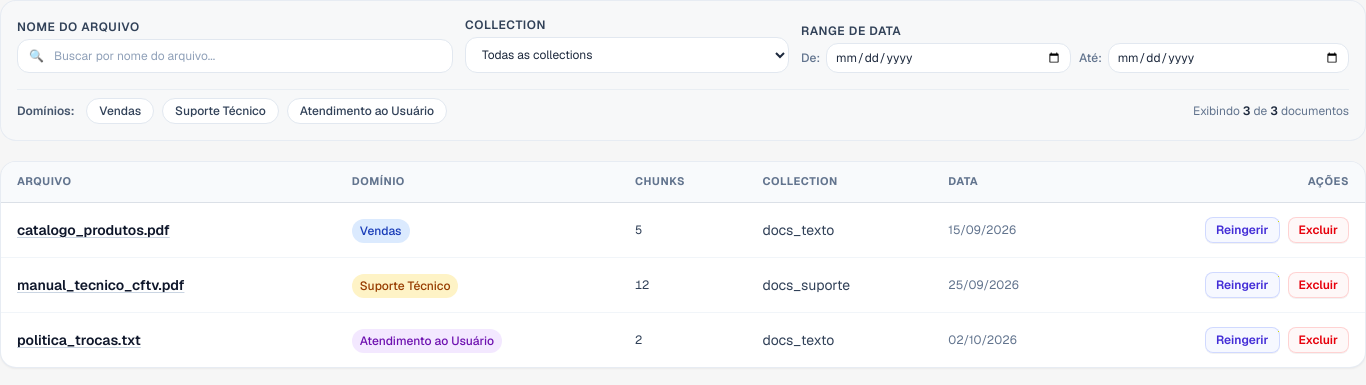
it: DocumentsTable › Filtros de documentos › filtra por nome do arquivo (case-insensitive)
Check: the text "catalogo_produtos.pdf" is shown, box [17,220,170,240]
Check: the text "manual_tecnico_cftv.pdf" is shown, box [17,275,184,295]
Type "manual" into the field with placeholder "Buscar por nome do arquivo..." at point(235, 56), box [17,39,453,73]
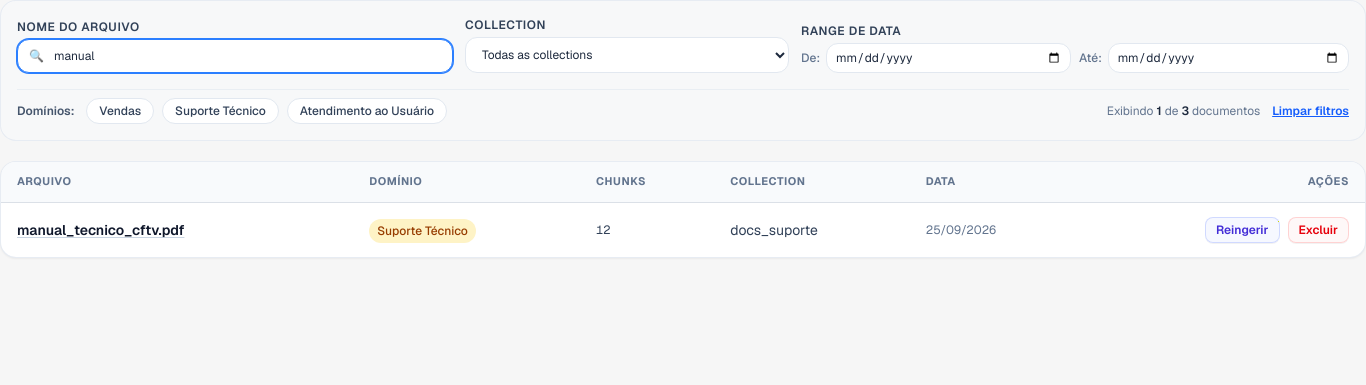
Check: the text "manual_tecnico_cftv.pdf" is shown, box [17,220,184,240]
Check: the button "catalogo_produtos.pdf" is gone
Check: the button "politica_trocas.txt" is gone
